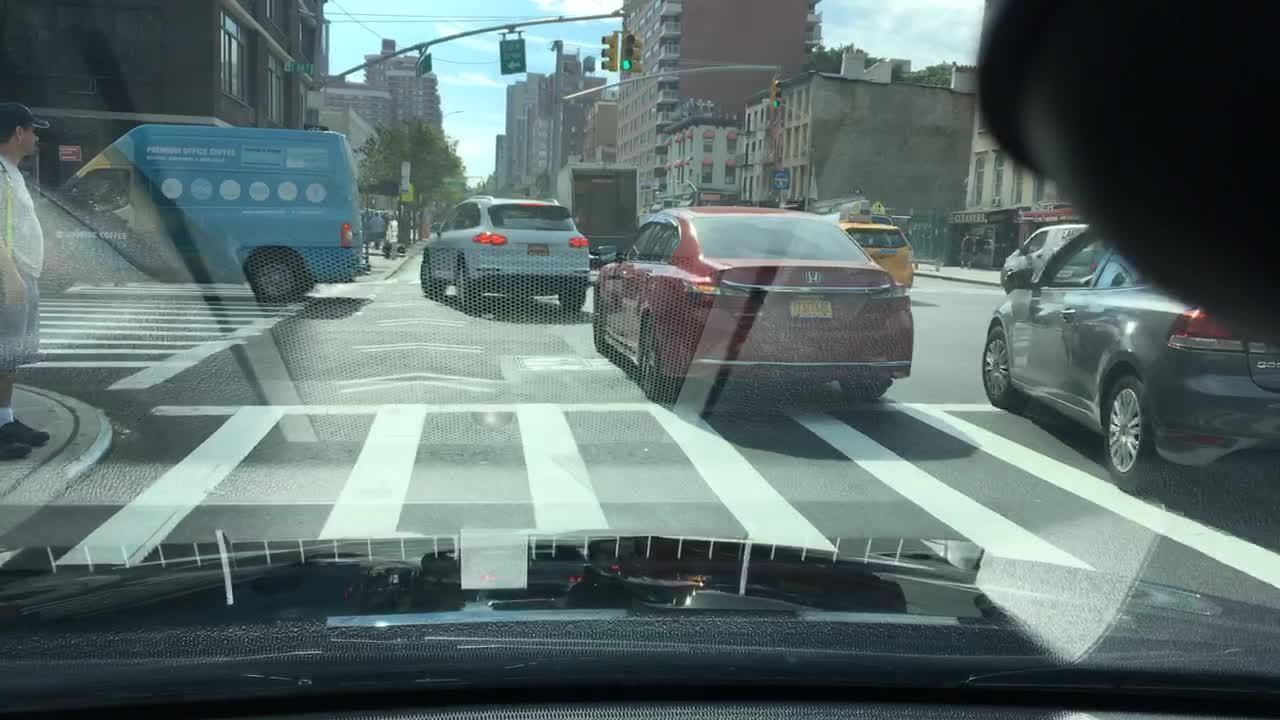Honda: (800, 264, 826, 291)
